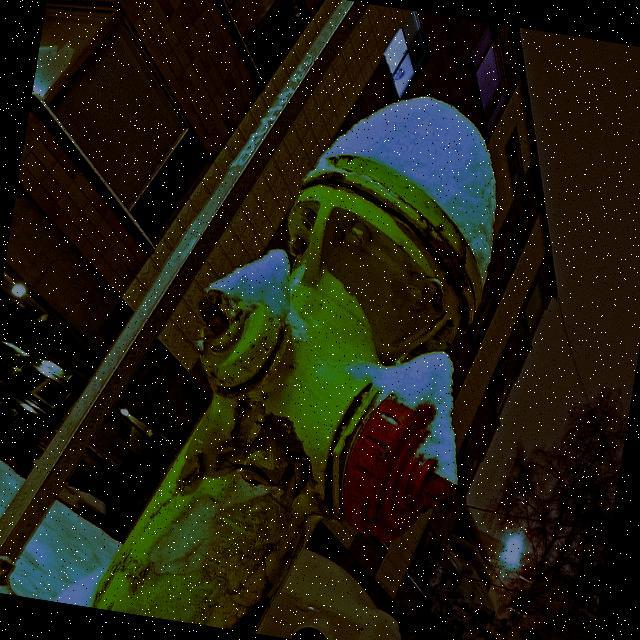fire_hydrant: (87, 49, 522, 640)
